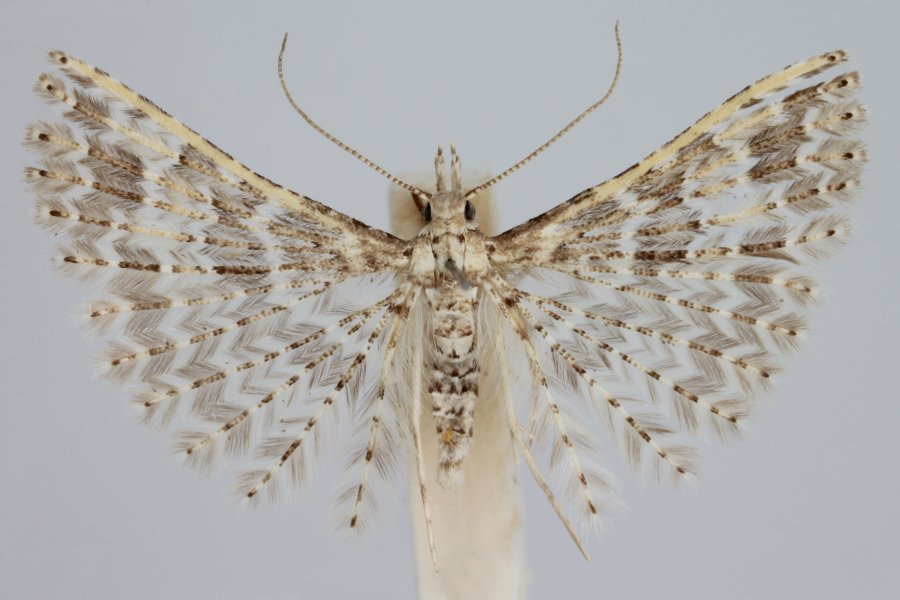Alucitidae: (21, 3, 870, 583)
moth: (19, 1, 868, 581)
